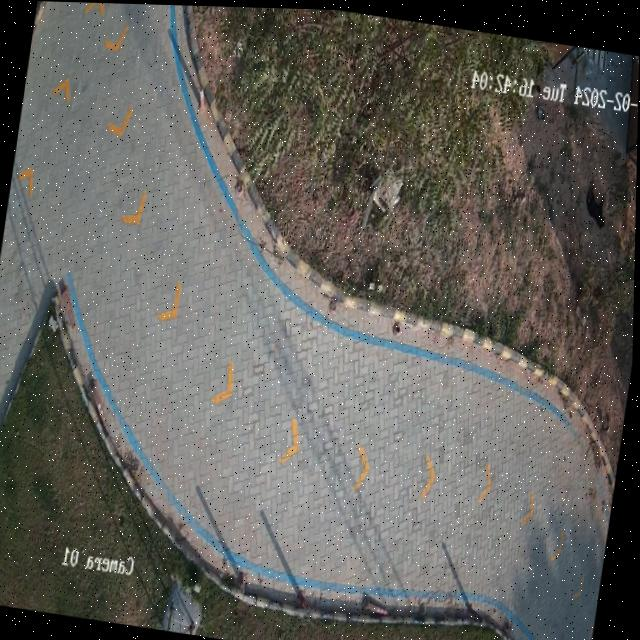No Car: (0, 1, 639, 640)
